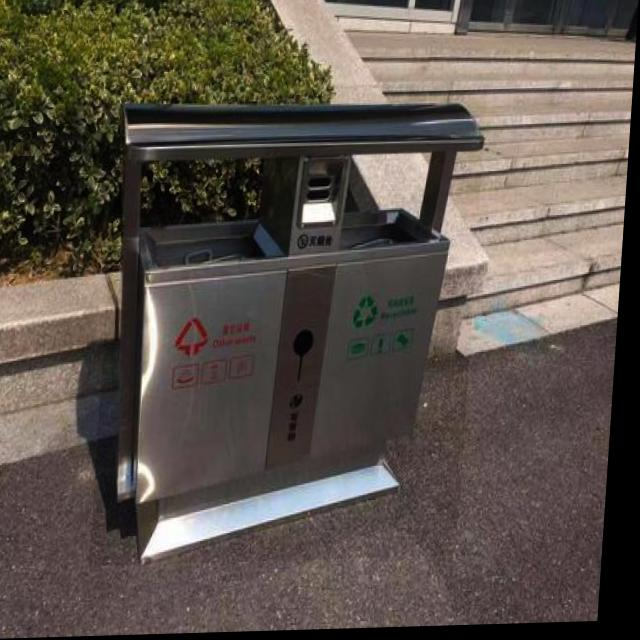garbage_bin: (97, 92, 489, 567)
